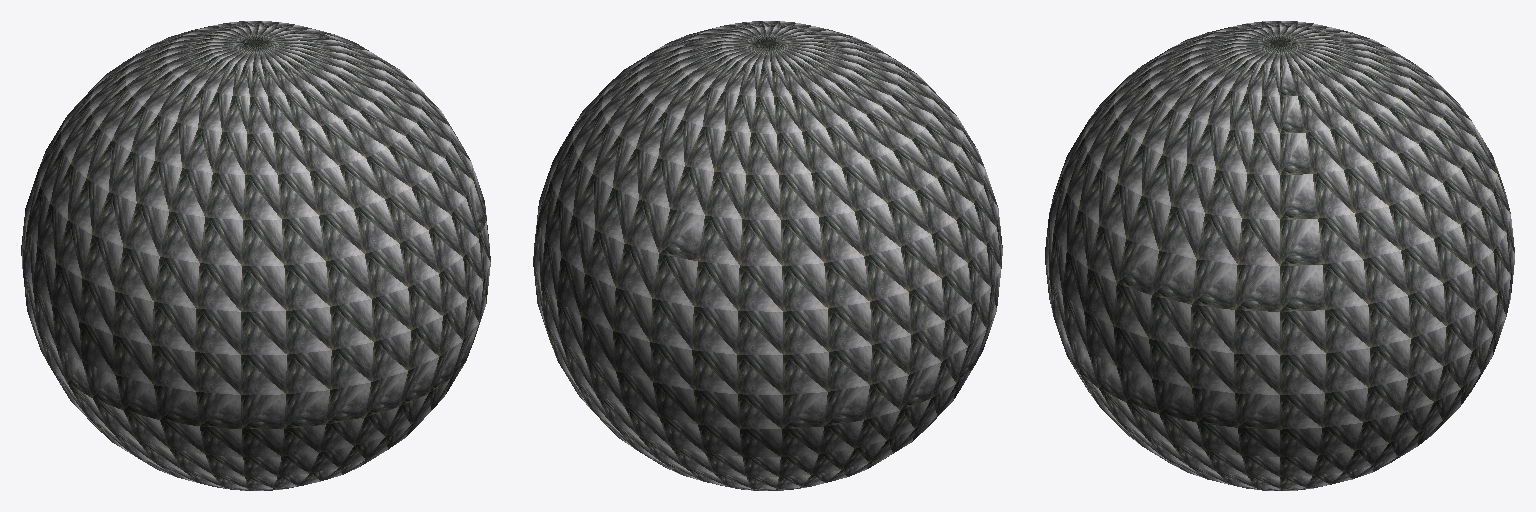
The picture shows the model from 3 angles: view 1: azimuth 30°, elevation 25°; view 2: azimuth 150°, elevation 25°; view 3: azimuth 270°, elevation 25°; orthographic projection.
Visible parts, largest first — view 1: Sphere; view 2: Sphere; view 3: Sphere.
Part boxes in pixels (left/top/right/bottom): Sphere: left=21, top=21, right=490, bottom=490; Sphere: left=533, top=21, right=1002, bottom=490; Sphere: left=1045, top=21, right=1514, bottom=490.
Bounding box in the file's own units: 4 × 4 × 4.
1 materials, 1 textured.